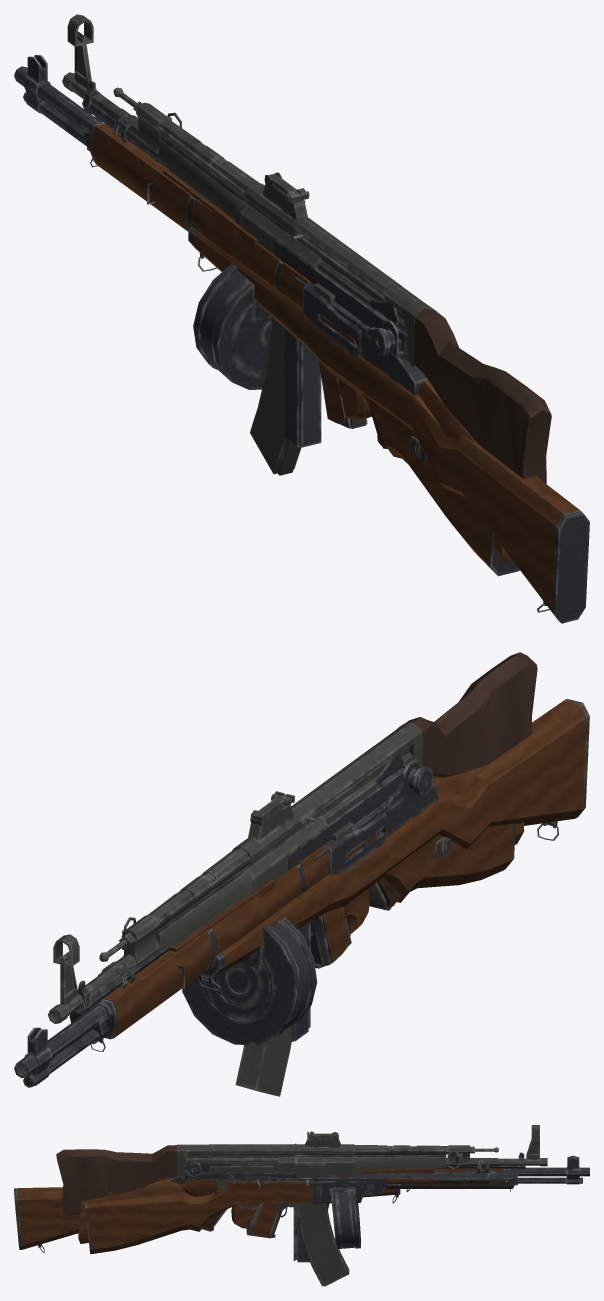
File: weapons-DjCx9v8Y.glb
3 renders of one model, top to bottom at view 1: azimuth 30°, elevation 25°; view 2: azimuth 150°, elevation 25°; view 3: azimuth 270°, elevation 25°, orthographic. The views are drawn at different scales.
Parts seen in each view (by area): view 1: M1Garand, STG44, PPSh41, Thompson, M1911; view 2: M1Garand, STG44, PPSh41, Thompson, M1911; view 3: STG44, PPSh41, M1Garand, Thompson, M1911.
Part boxes in pixels (x1,y1,x2,y2): M1Garand: (14, 55, 589, 623); STG44: (62, 14, 551, 483); PPSh41: (83, 114, 519, 576); Thompson: (82, 81, 513, 564); M1911: (318, 360, 367, 428); M1Garand: (14, 699, 589, 1087); STG44: (48, 652, 537, 1096); PPSh41: (69, 823, 515, 1045); Thompson: (74, 751, 524, 1042); M1911: (310, 906, 351, 968); STG44: (56, 1125, 547, 1286); PPSh41: (85, 1158, 518, 1254); M1Garand: (14, 1155, 589, 1252); Thompson: (78, 1152, 525, 1262); M1911: (246, 1202, 295, 1238).
Bounding box in the file's own units: 0.1347 × 0.3369 × 1.1.
Materials: 5 (5 with a texture image).
